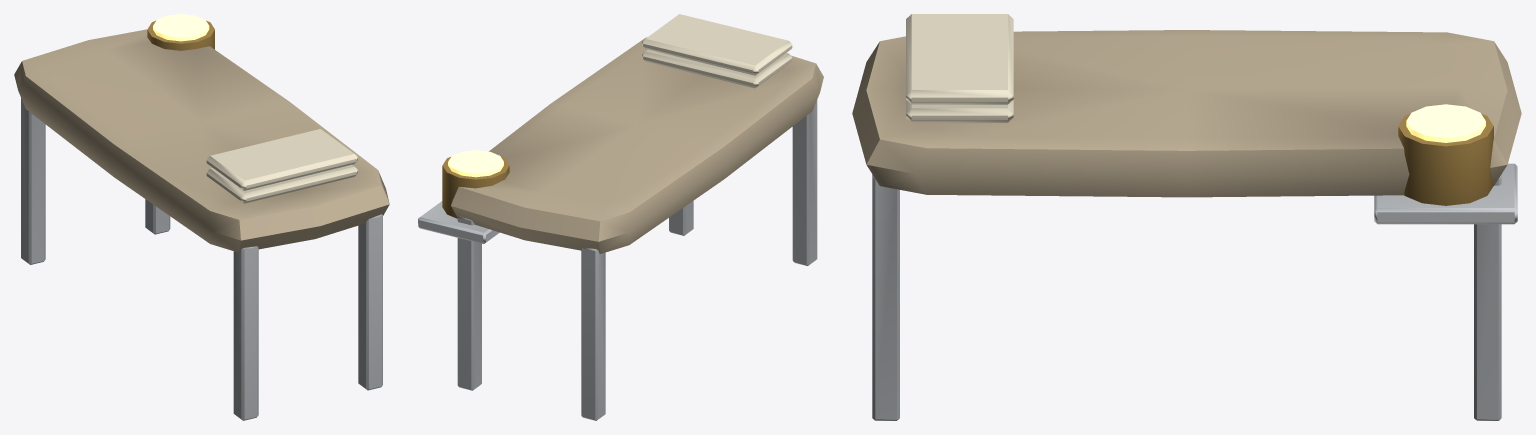
The model's file is station_waxpreserve.glb.
The picture shows the model from 3 angles, left to right: view 1: azimuth 30°, elevation 25°; view 2: azimuth 150°, elevation 25°; view 3: azimuth 270°, elevation 25°; orthographic projection. The views are drawn at different scales.
Parts seen in each view (by area): view 1: station_waxpreserve, glow; view 2: station_waxpreserve, glow; view 3: station_waxpreserve, glow.
Part boxes in pixels (x1,y1,x2,y2): station_waxpreserve: (14, 20, 389, 420); glow: (153, 14, 209, 41); station_waxpreserve: (418, 14, 823, 420); glow: (448, 150, 503, 177); station_waxpreserve: (852, 14, 1521, 420); glow: (1406, 104, 1485, 142).
Size of the model in its own units: 0.805 by 0.89 by 1.68.
